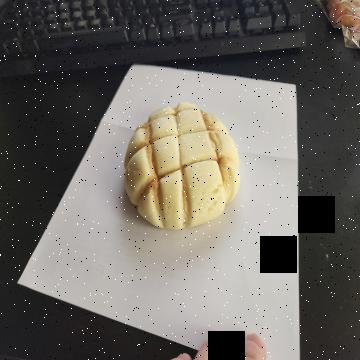melon_bread: (128, 104, 240, 227)
